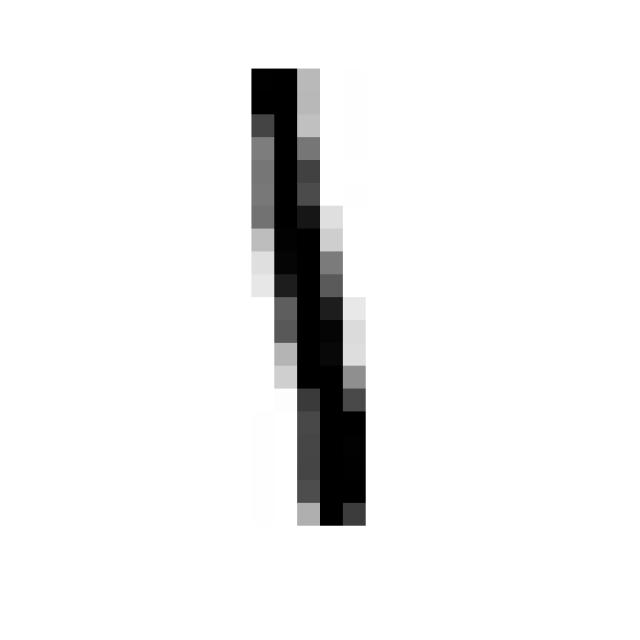1 -one-: (226, 48, 384, 542)
